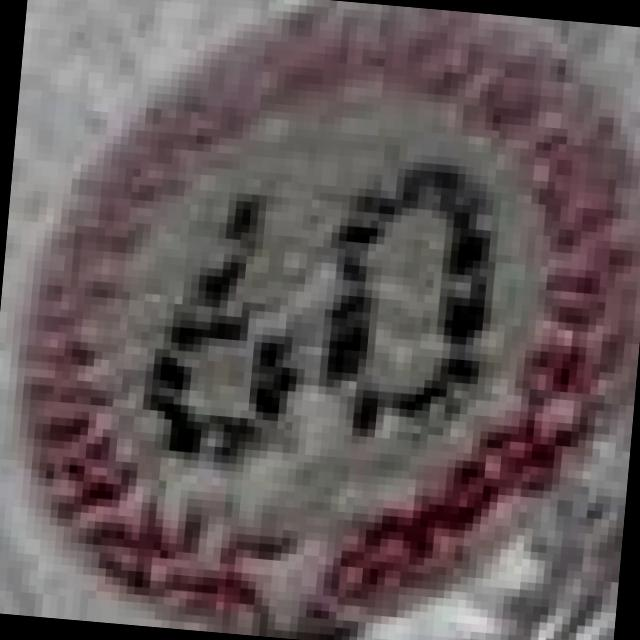Ograniczenie predkosci do 60: (6, 0, 640, 626)
